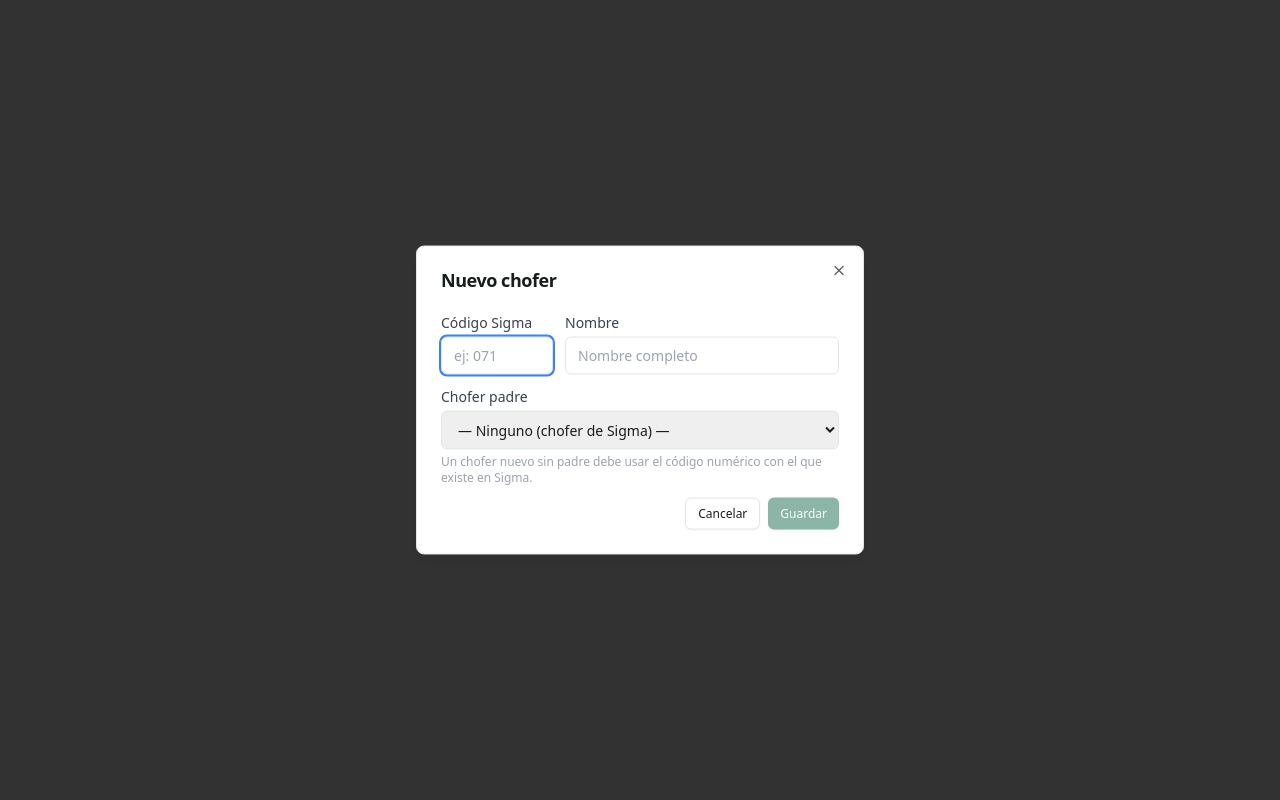
Test: ChoferModal — chofer padre › con padre seleccionado autogenera el código con el primer sufijo libre y deshabilita el input
This screenshot has width=1280, height=800.
Later steps or results of the test are not shown.
Select "071 — López" in the dropdown at (640, 430), box x1=441 y1=410 x2=839 y2=450
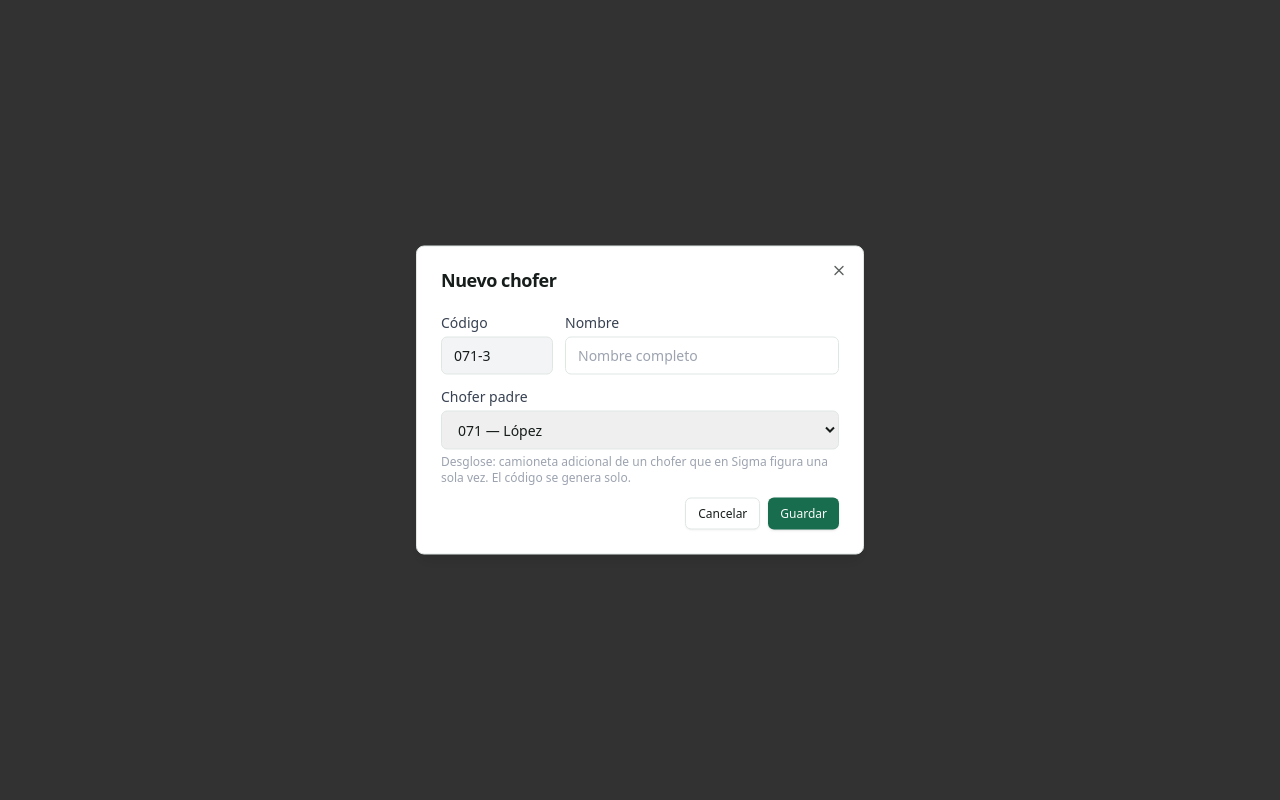
Now the field with placeholder "ej: 071" holds "071-3", box x1=441 y1=336 x2=553 y2=374
Now the field with placeholder "ej: 071" is disabled, box x1=441 y1=336 x2=553 y2=374
